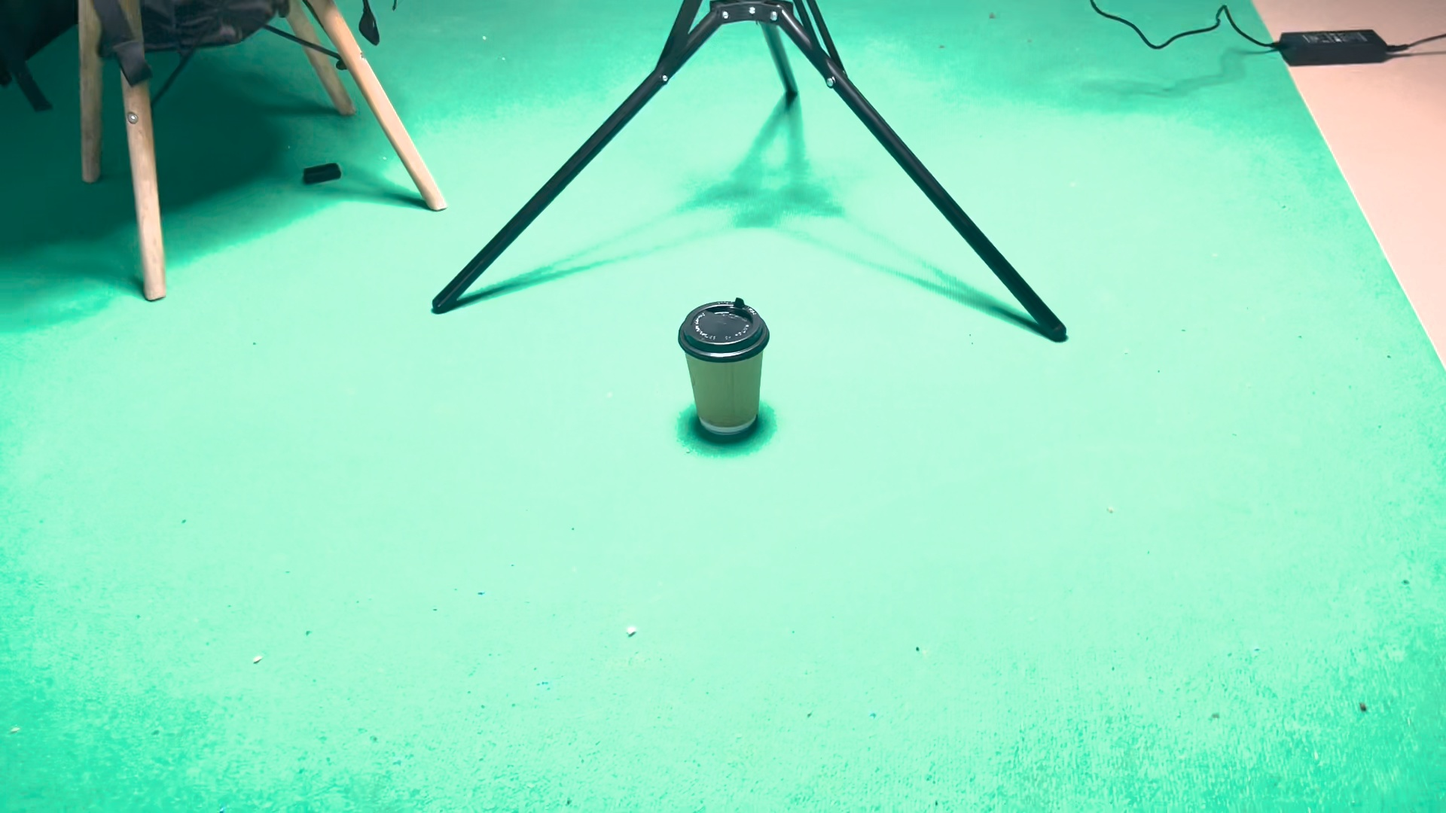cup: (703, 470, 815, 618)
